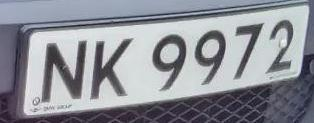2: (264, 12, 300, 75)
7: (229, 18, 268, 83)
9: (145, 22, 193, 98), (190, 20, 233, 92)
K: (86, 29, 136, 102)
N: (36, 34, 90, 107)
